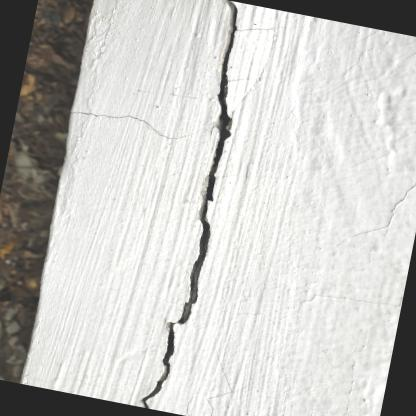crack: (140, 0, 237, 408), (70, 111, 195, 139)
